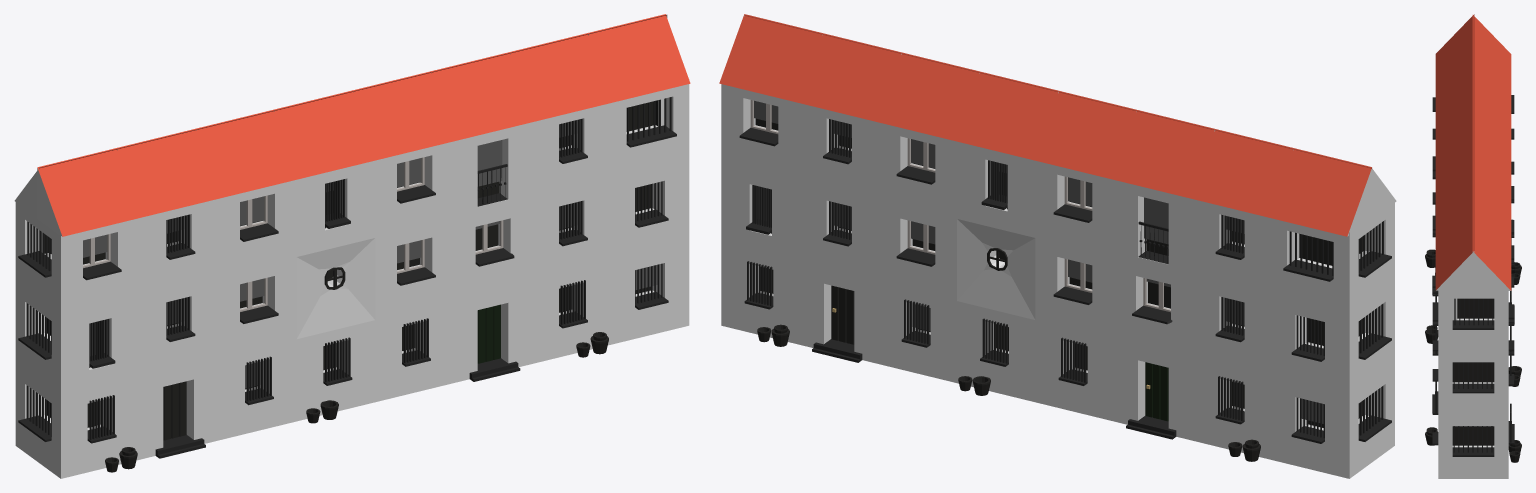
The model's file is CasaProcedural_10.fbx.
3 views of the same model, side by side, from view 1: azimuth 30°, elevation 25°; view 2: azimuth 150°, elevation 25°; view 3: azimuth 270°, elevation 25° (orthographic). The views are drawn at different scales.
Parts seen in each view (by area): view 1: Procedural_Building; view 2: Procedural_Building; view 3: Procedural_Building.
Boxes of the visible parts, x1=… form: Procedural_Building: x1=14, y1=14, x2=690, y2=478; Procedural_Building: x1=719, y1=14, x2=1396, y2=478; Procedural_Building: x1=1425, y1=14, x2=1521, y2=478.
Bounding box in the file's own units: 816 × 359 × 138.
